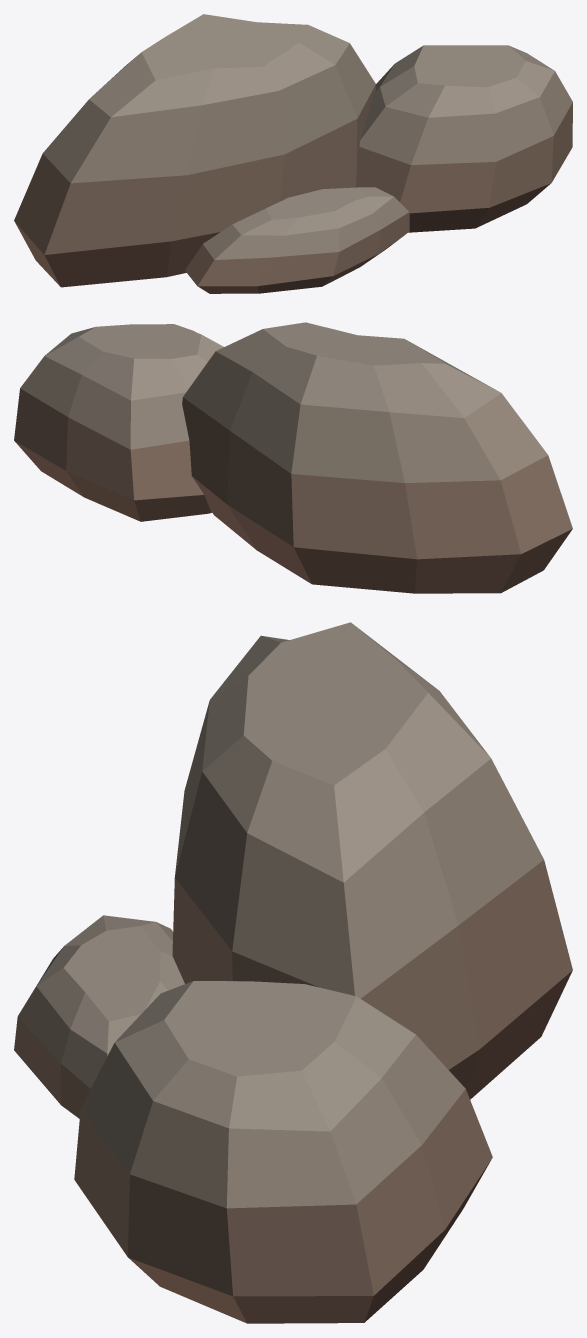
The model's file is rock-outcrop.glb.
The picture shows the model from 3 angles, top to bottom: view 1: azimuth 30°, elevation 25°; view 2: azimuth 150°, elevation 25°; view 3: azimuth 270°, elevation 25°; orthographic projection. The views are drawn at different scales.
Parts seen in each view (by area): view 1: Stone_01, Stone_02, Stone_03; view 2: Stone_01, Stone_02; view 3: Stone_01, Stone_02, Stone_03.
Part boxes in pixels (box(x1,y1,x2,y2)): Stone_01: box(14, 14, 375, 287); Stone_02: box(355, 45, 572, 232); Stone_03: box(185, 187, 409, 293); Stone_01: box(182, 322, 572, 593); Stone_02: box(14, 324, 223, 521); Stone_01: box(172, 622, 572, 1099); Stone_02: box(74, 981, 492, 1323); Stone_03: box(14, 915, 184, 1118).
Size of the model in its own units: 4 by 1.45 by 2.
